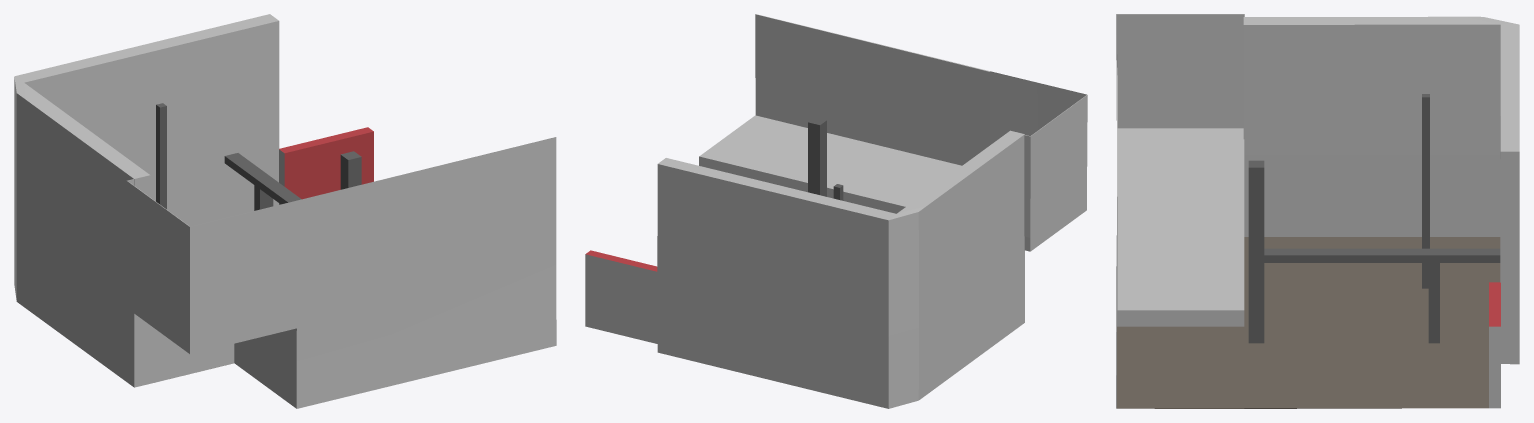
File: mockup walhalla 1.fbx
3 views of the same model, side by side, from view 1: azimuth 30°, elevation 25°; view 2: azimuth 150°, elevation 25°; view 3: azimuth 270°, elevation 25° (orthographic). The views are drawn at different scales.
Visible parts, largest first — view 1: Plane, Cube; view 2: Plane, Cube; view 3: Plane, Cube.
Part boxes in pixels (left/top/right/bottom): Plane: left=14, top=14, right=556, bottom=408; Cube: left=156, top=103, right=361, bottom=210; Plane: left=585, top=14, right=1087, bottom=408; Cube: left=808, top=117, right=843, bottom=200; Plane: left=1116, top=14, right=1519, bottom=408; Cube: left=1248, top=94, right=1500, bottom=343.
Size of the model in its own units: 2404 by 1375 by 2246.
